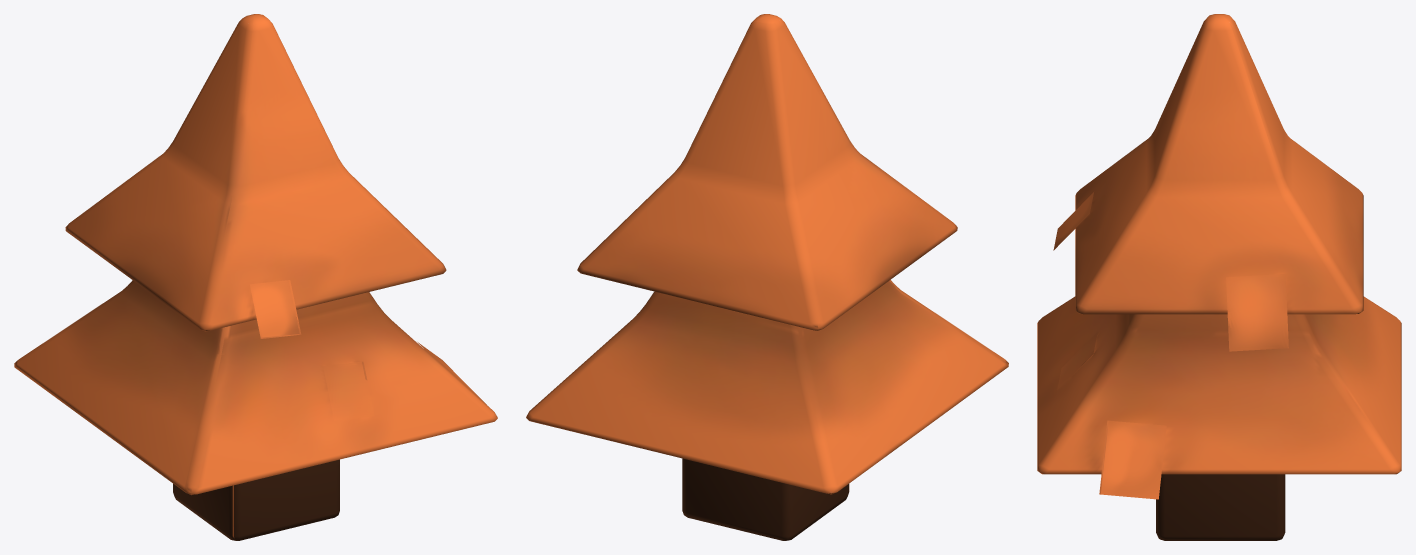
File: tree 6.fbx
The picture shows the model from 3 angles, left to right: view 1: azimuth 30°, elevation 25°; view 2: azimuth 150°, elevation 25°; view 3: azimuth 270°, elevation 25°; orthographic projection.
Visible parts, largest first — view 1: Cube.003; view 2: Cube.003; view 3: Cube.003.
Boxes of the visible parts, x1=… form: Cube.003: x1=14, y1=14, x2=497, y2=540; Cube.003: x1=526, y1=14, x2=1008, y2=540; Cube.003: x1=1037, y1=14, x2=1401, y2=540.
Bounding box in the file's own units: 208 × 296 × 195.
